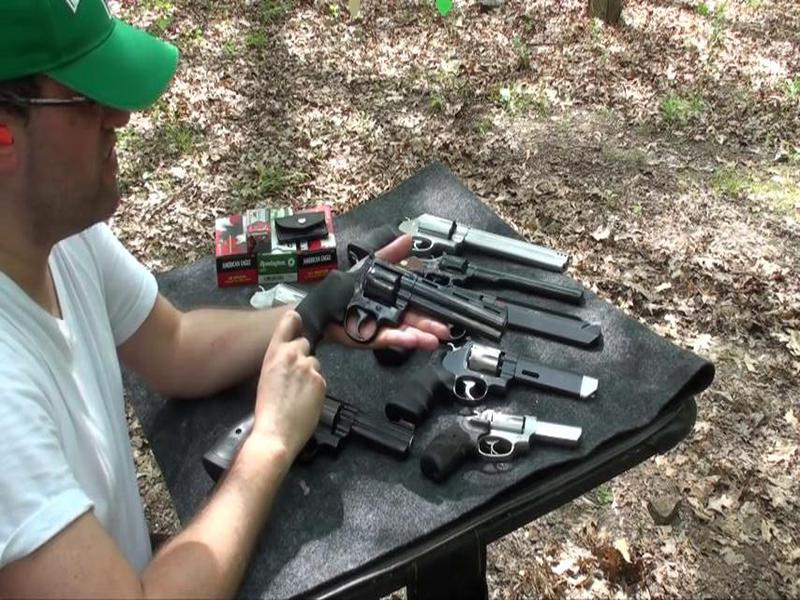Revolver: (281, 247, 505, 384)
